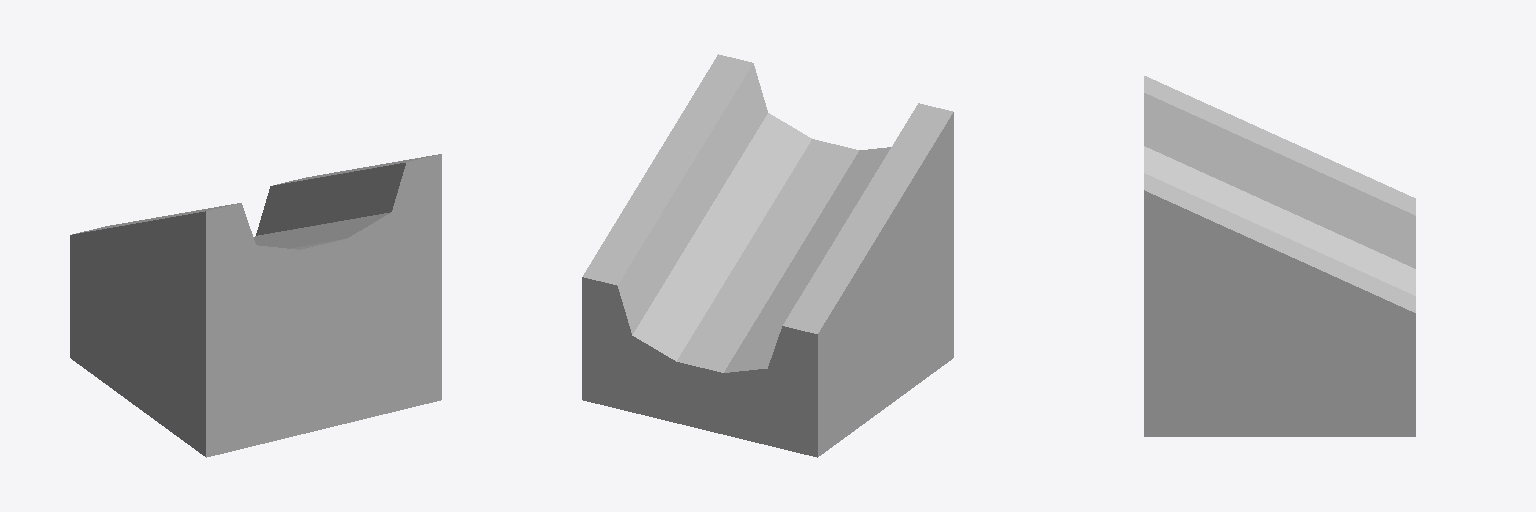
Rendered from slant-solid-b.obj.
3 renders of one model, left to right at view 1: azimuth 30°, elevation 25°; view 2: azimuth 150°, elevation 25°; view 3: azimuth 270°, elevation 25°, orthographic.
Parts seen in each view (by area): view 1: slant-solid-b; view 2: slant-solid-b; view 3: slant-solid-b.
Boxes of the visible parts, box(x1,y1,x2,y2) form: slant-solid-b: box(70, 154, 441, 457); slant-solid-b: box(582, 54, 953, 457); slant-solid-b: box(1144, 76, 1415, 436).
Bounding box in the file's own units: 1 × 1 × 1.